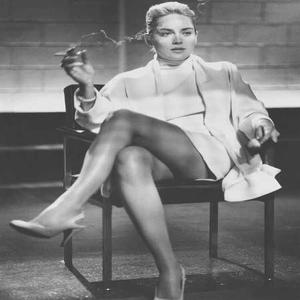cigarette: (53, 53, 84, 57)
